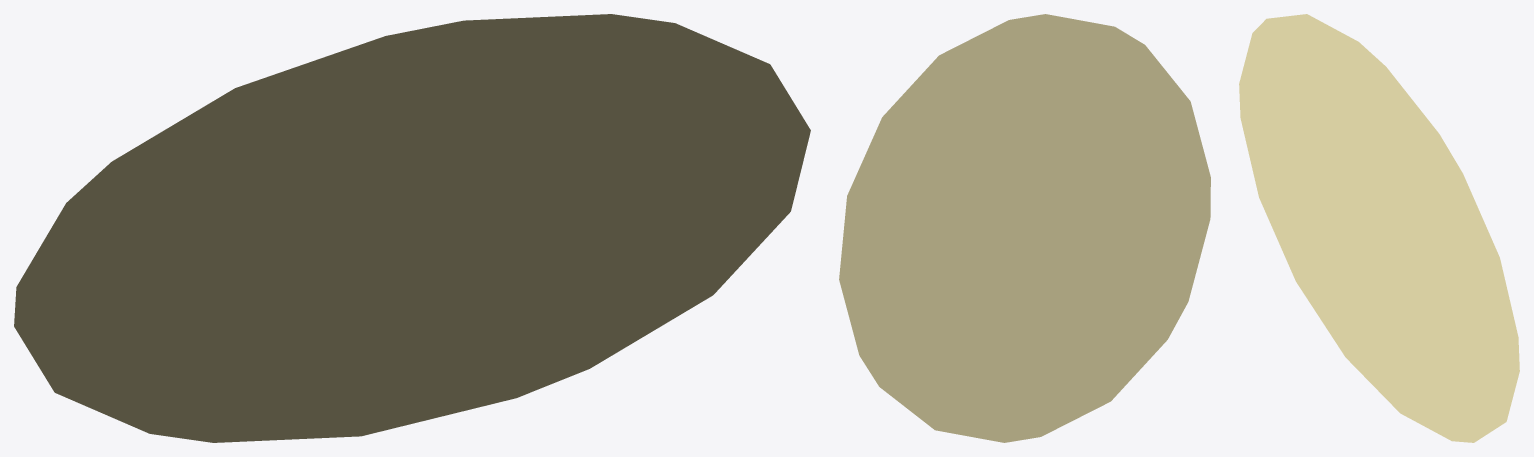
The model's file is tom2.gltf.
3 renders of one model, left to right at view 1: azimuth 30°, elevation 25°; view 2: azimuth 150°, elevation 25°; view 3: azimuth 270°, elevation 25°, orthographic. The views are drawn at different scales.
Parts seen in each view (by area): view 1: Tom2Surface; view 2: Tom2Surface; view 3: Tom2Surface.
Boxes of the visible parts, box(x1,y1,x2,y2) form: Tom2Surface: box(14, 14, 810, 442); Tom2Surface: box(839, 14, 1210, 442); Tom2Surface: box(1239, 14, 1519, 442).
Size of the model in its own units: 2.34 by 1.93 by 1.38.
1 material, 1 textured.
